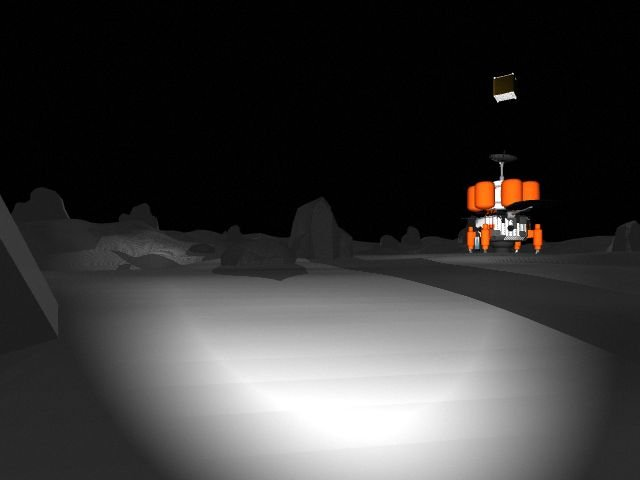cubesat: (487, 67, 528, 105)
